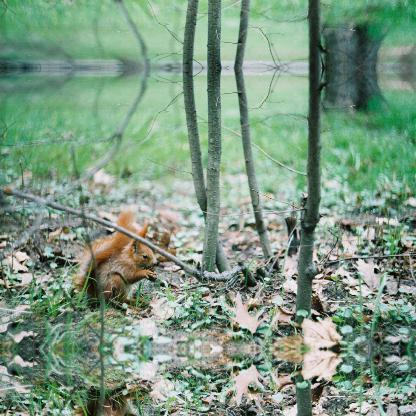Squirrel: (72, 208, 158, 306), (71, 389, 159, 415)
